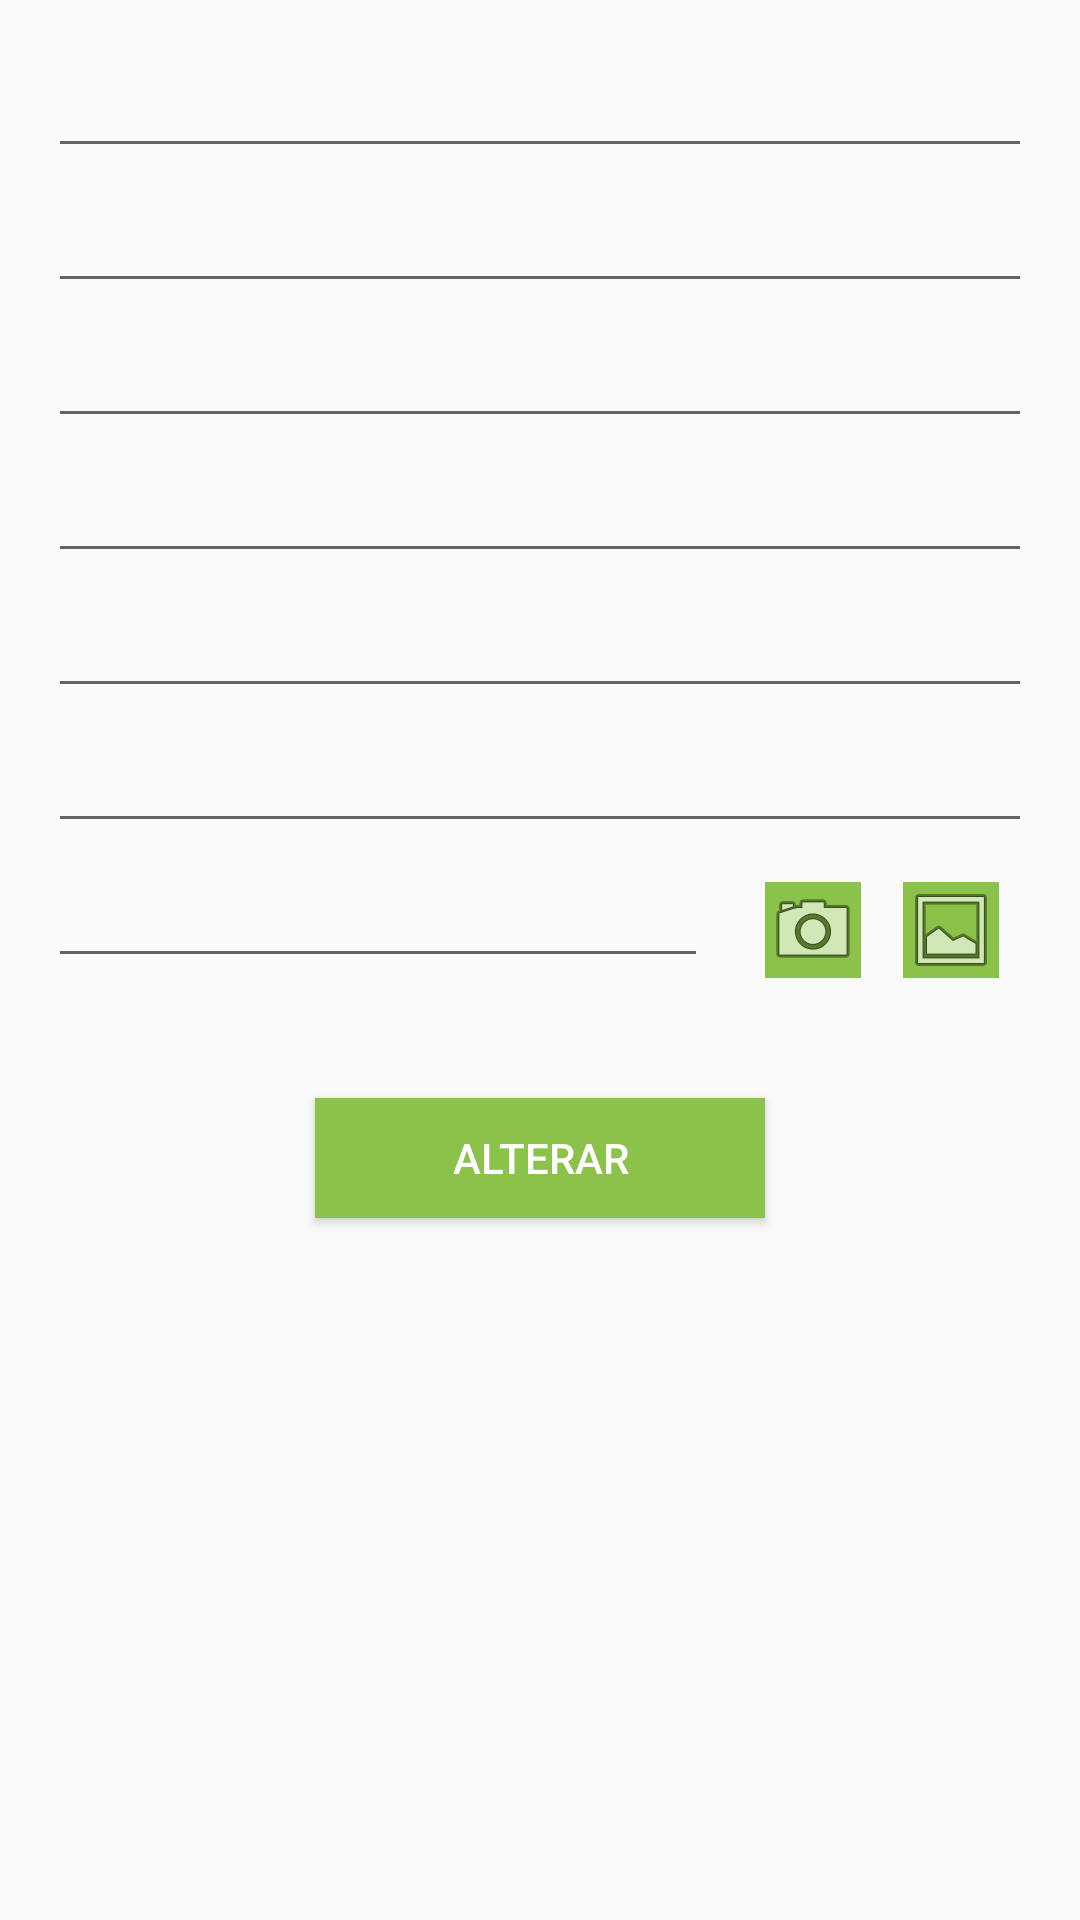

Icons on this 1080x1920 Android screen, each with the point to tap as (x=x, y=y):
camera: (x=813, y=930)
gallery: (x=951, y=930)
